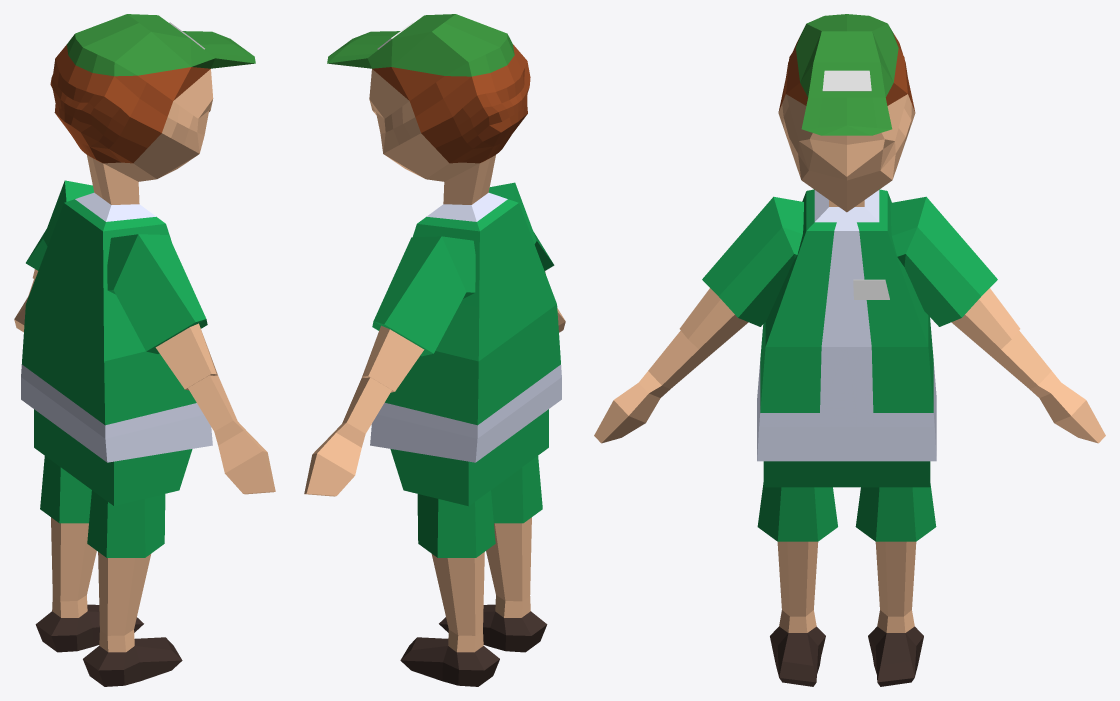
The model's file is WORKER FINAL FINAL FINAL FINAL FINAL.fbx.
3 renders of one model, left to right at view 1: azimuth 30°, elevation 25°; view 2: azimuth 150°, elevation 25°; view 3: azimuth 270°, elevation 25°, orthographic. The views are drawn at different scales.
Parts seen in each view (by area): view 1: Cube.013, Cube.012, Cube.010, Cube.002, Cube, Cube.001, Cube.011, Cube.003, Cylinder, Cylinder.004, Cylinder.001, Cylinder.005 (+5 smaller); view 2: Cube.013, Cube.012, Cube.005, Cube.010, Cube, Cube.001, Cube.011, Cube.004, Cylinder.002, Cylinder.001, Cylinder.004, Cylinder.003 (+5 smaller); view 3: Cube.013, Cube, Cube.010, Cube.011, Cube.005, Cube.002, Cube.001, Cube.004, Cube.003, Cylinder.002, Cylinder, Cylinder.004 (+8 smaller).
Boxes of the visible parts, x1,y1,x2,y2 form: Cube.013: (22, 199, 196, 425); Cube.012: (50, 44, 210, 163); Cube.010: (67, 14, 255, 76); Cube.002: (107, 234, 207, 353); Cube: (21, 364, 212, 462); Cube.001: (34, 409, 192, 506); Cube.011: (87, 69, 213, 204); Cube.003: (188, 375, 275, 494); Cylinder: (87, 490, 165, 557); Cylinder.004: (98, 552, 150, 652); Cylinder.001: (51, 517, 96, 617); Cylinder.005: (83, 637, 182, 686); Cube.013: (385, 199, 560, 425); Cube.012: (372, 44, 530, 163); Cube.005: (372, 236, 475, 356); Cube.010: (327, 14, 514, 76); Cube: (370, 364, 561, 462); Cube.001: (390, 409, 548, 506); Cube.011: (369, 69, 495, 204); Cube.004: (304, 377, 391, 496); Cylinder.002: (417, 490, 495, 557); Cylinder.001: (431, 552, 484, 652); Cylinder.004: (486, 517, 531, 617); Cylinder.003: (400, 637, 499, 686); Cube.013: (760, 189, 933, 412); Cube: (757, 222, 936, 461); Cube.010: (795, 14, 898, 135); Cube.011: (778, 94, 915, 212); Cube.005: (890, 196, 997, 326); Cube.002: (702, 196, 803, 326); Cube.001: (763, 461, 930, 487); Cube.004: (989, 330, 1105, 443); Cube.003: (594, 330, 710, 443); Cylinder.002: (855, 483, 936, 541); Cylinder: (757, 482, 837, 541); Cylinder.004: (777, 541, 818, 632).
Size of the model in its own units: 265 by 884 by 630.
